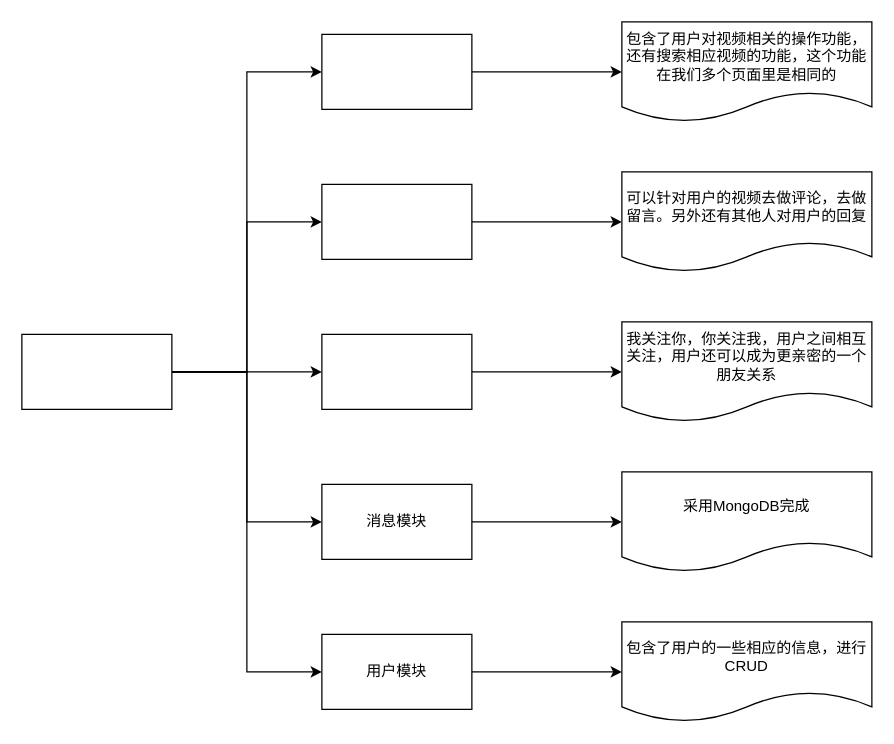
Some shapes in this 894 by 744 pixel diagram are drawn without their labels. Each missing label, with the centre of its shape:
"douyin-app 功能模块" goes at point 96,371.
"留言模块" goes at point 396,221.
"粉丝模块" goes at point 396,371.
"视频模块" goes at point 396,71.
